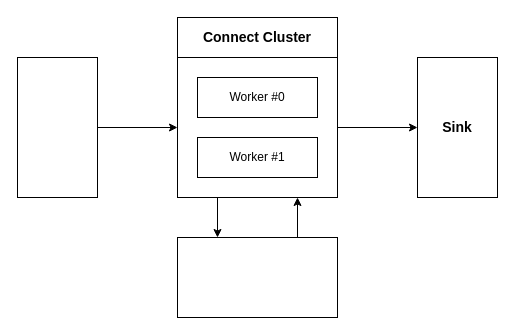
This 515x335 diagram has some shape labels left out. Here are the shapes that lost their labels. From the top down, the centre of each, then its label:
At pixel 57 127: "Source".
At pixel 257 277: "Kafka Cluster".
